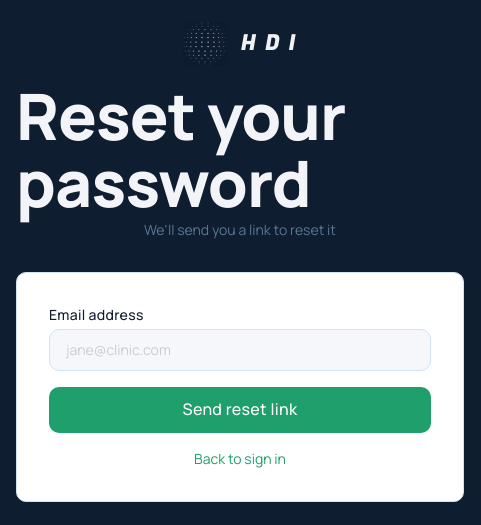
Test: ForgotPassword page › shows the entered email address in the success message
Type "doctor@clinic.com" into the field with placeholder "jane@clinic.com" at (240, 350), box 49,329 -> 431,371
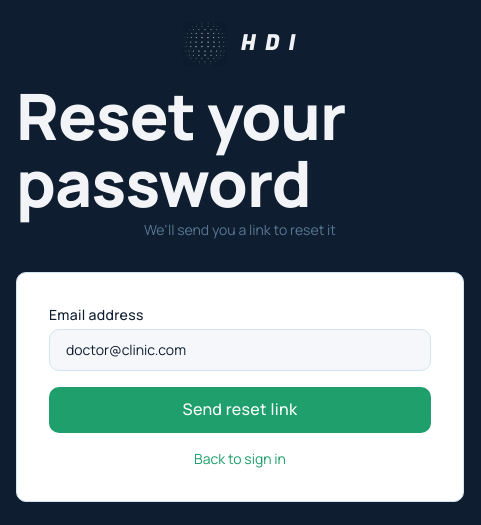
Click the button "Send reset link" at (240, 410), box 49,387 -> 431,433
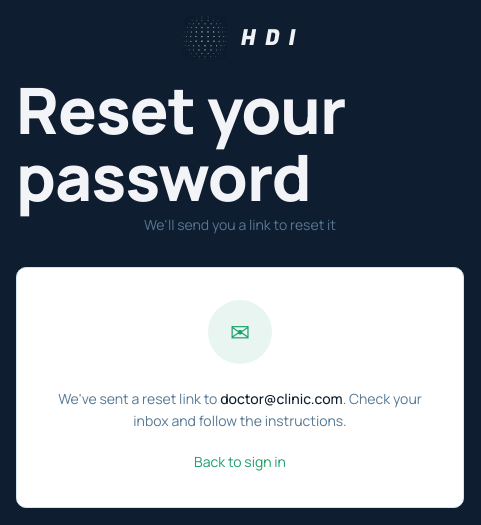
Now the text "doctor@clinic.com" is shown, box 220,389 -> 343,408
